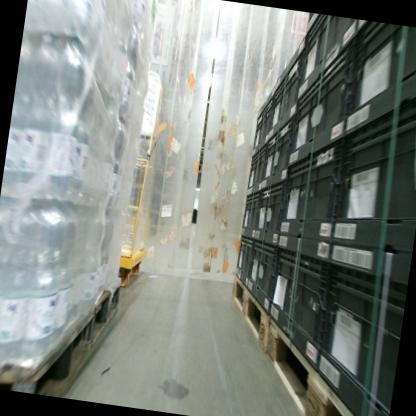pallet: (256, 310, 400, 416), (0, 296, 95, 399), (222, 275, 274, 357), (85, 272, 123, 361)
